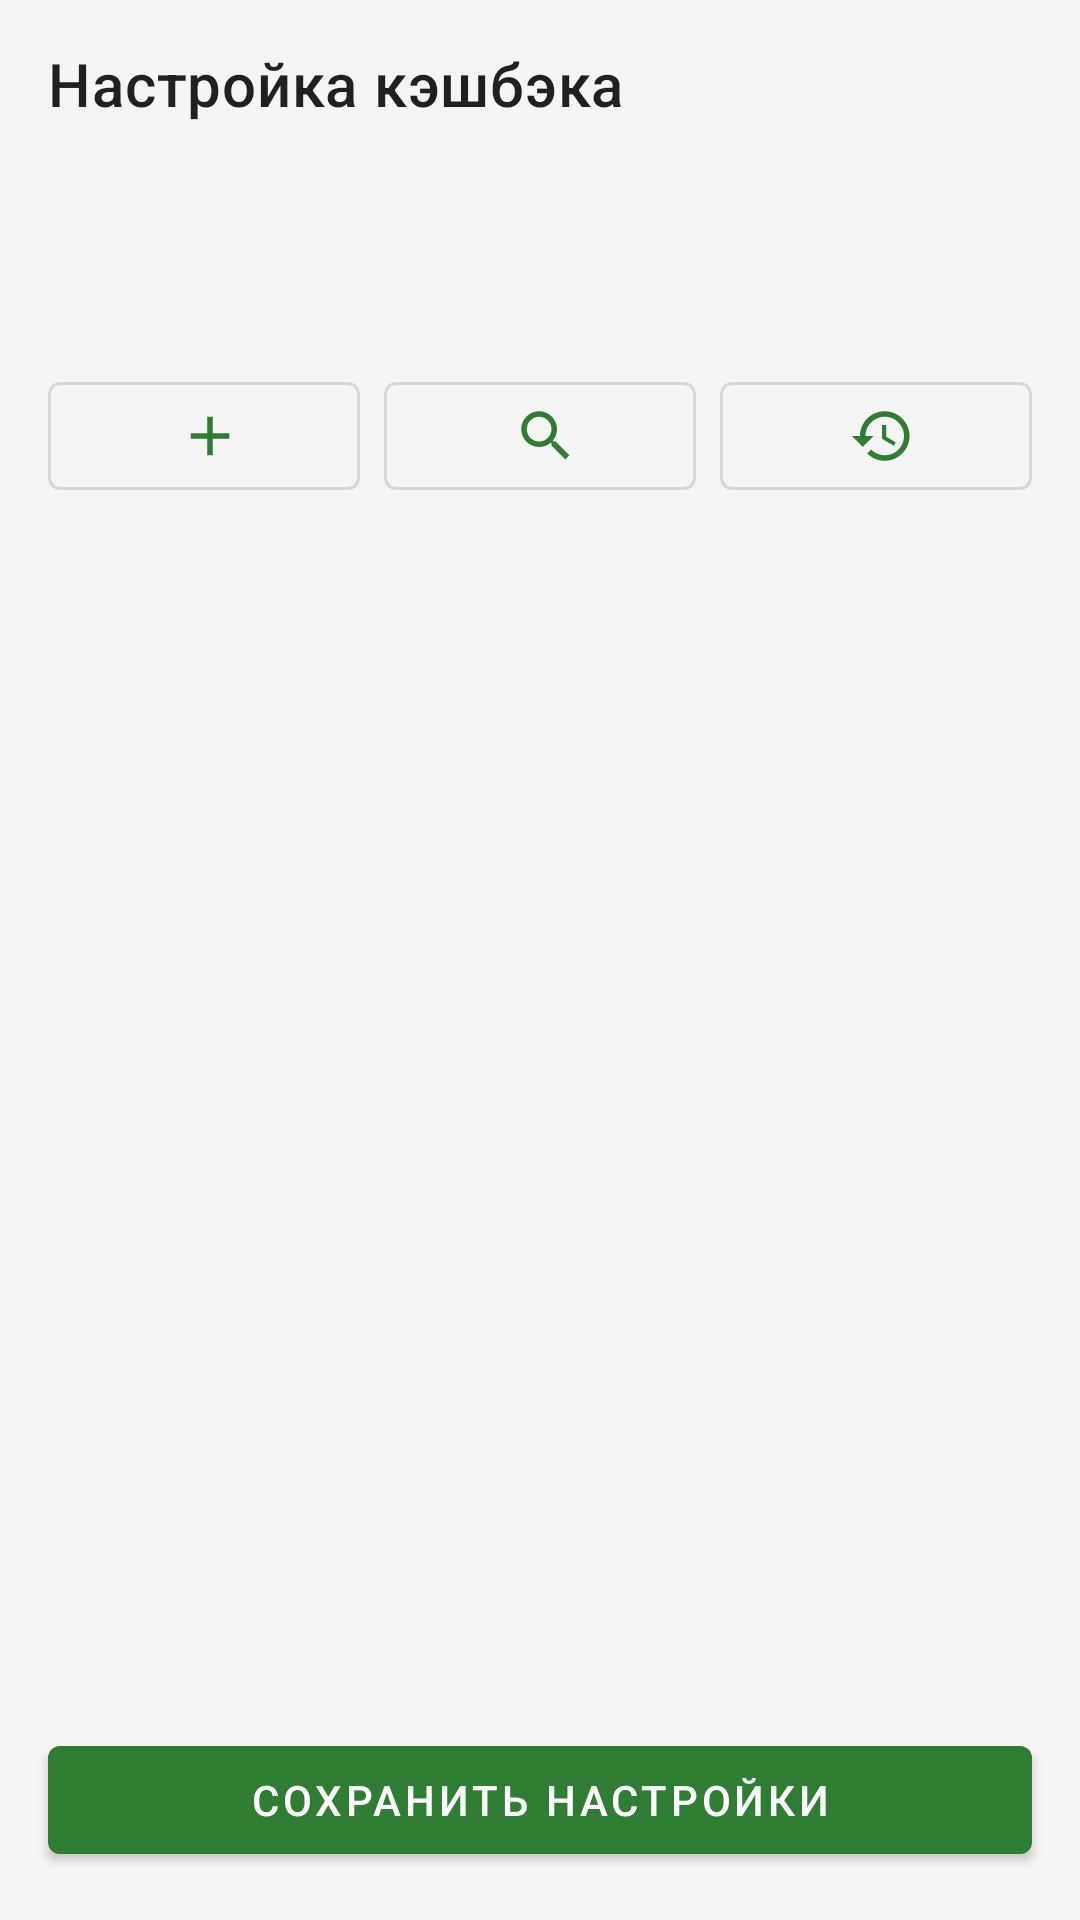

Icons on this 1080×1920 Android screen, each with the point to tap as (x,y):
Добавить категорию: (204,436)
Скопировать из прошлого месяца: (876,436)
